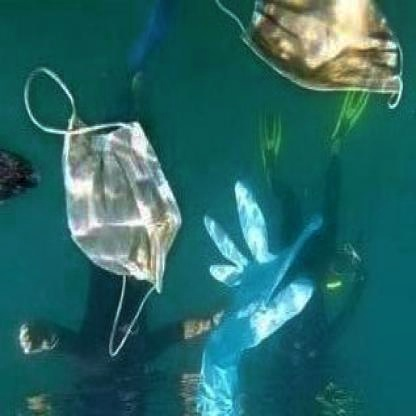Mask: (15, 62, 186, 359), (216, 0, 410, 111)
glove: (194, 183, 327, 414)
